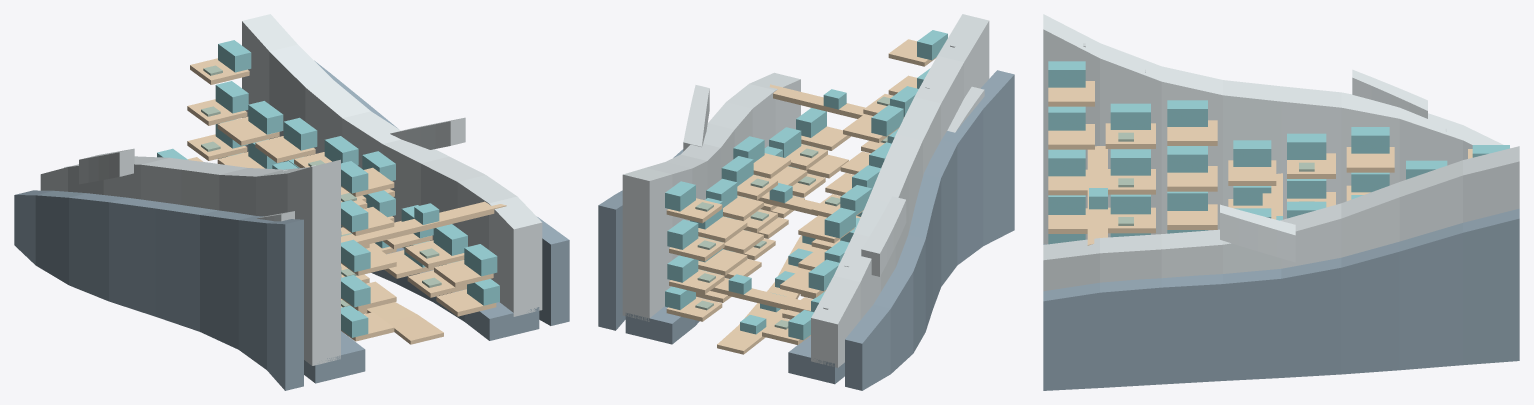
3 views of the same model, side by side, from view 1: azimuth 30°, elevation 25°; view 2: azimuth 150°, elevation 25°; view 3: azimuth 270°, elevation 25° (orthographic). The views are drawn at different scales.
Size of the model in its own units: 276 by 167 by 302.
